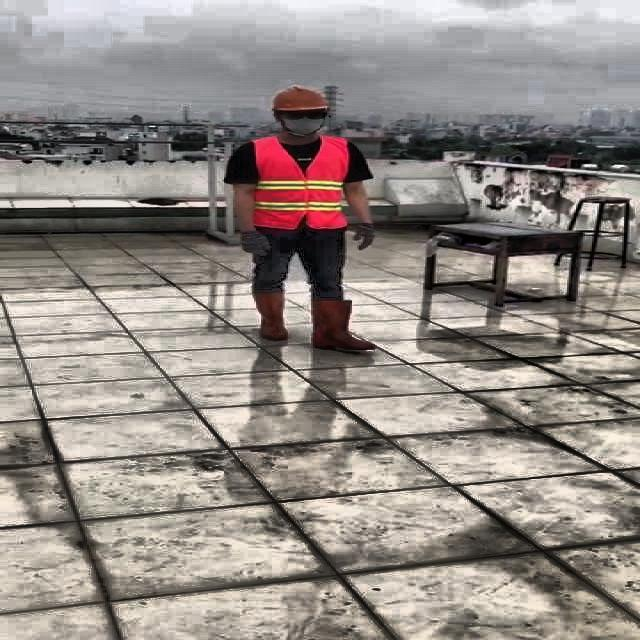safety_helmet: (268, 84, 336, 113)
safety_jacket: (252, 136, 348, 231)
